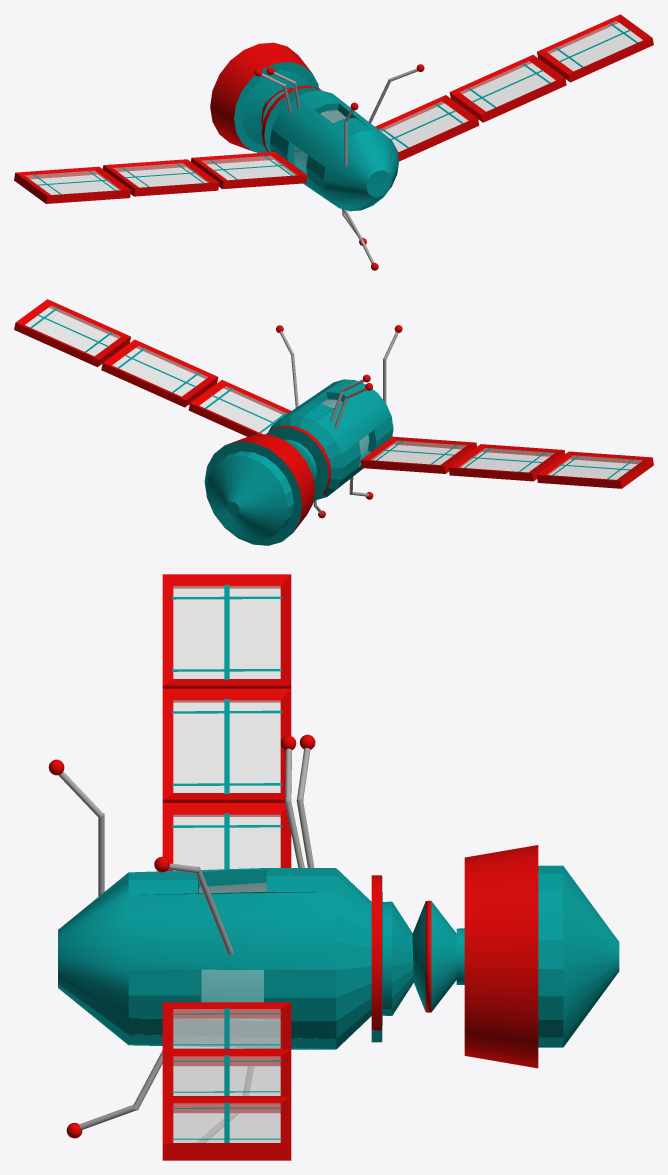
File: S2_Body.fbx
3 views of the same model, one above another, from view 1: azimuth 30°, elevation 25°; view 2: azimuth 150°, elevation 25°; view 3: azimuth 270°, elevation 25° (orthographic). The views are drawn at different scales.
Visible parts, largest first — view 1: pCube7; view 2: pCube7; view 3: pCube7.
Boxes of the visible parts, x1,y1,x2,y2 form: pCube7: (14,14,653,270); pCube7: (14,299,653,545); pCube7: (48,574,619,1160).
Bounding box in the file's own units: 116 × 32.55 × 47.3.
